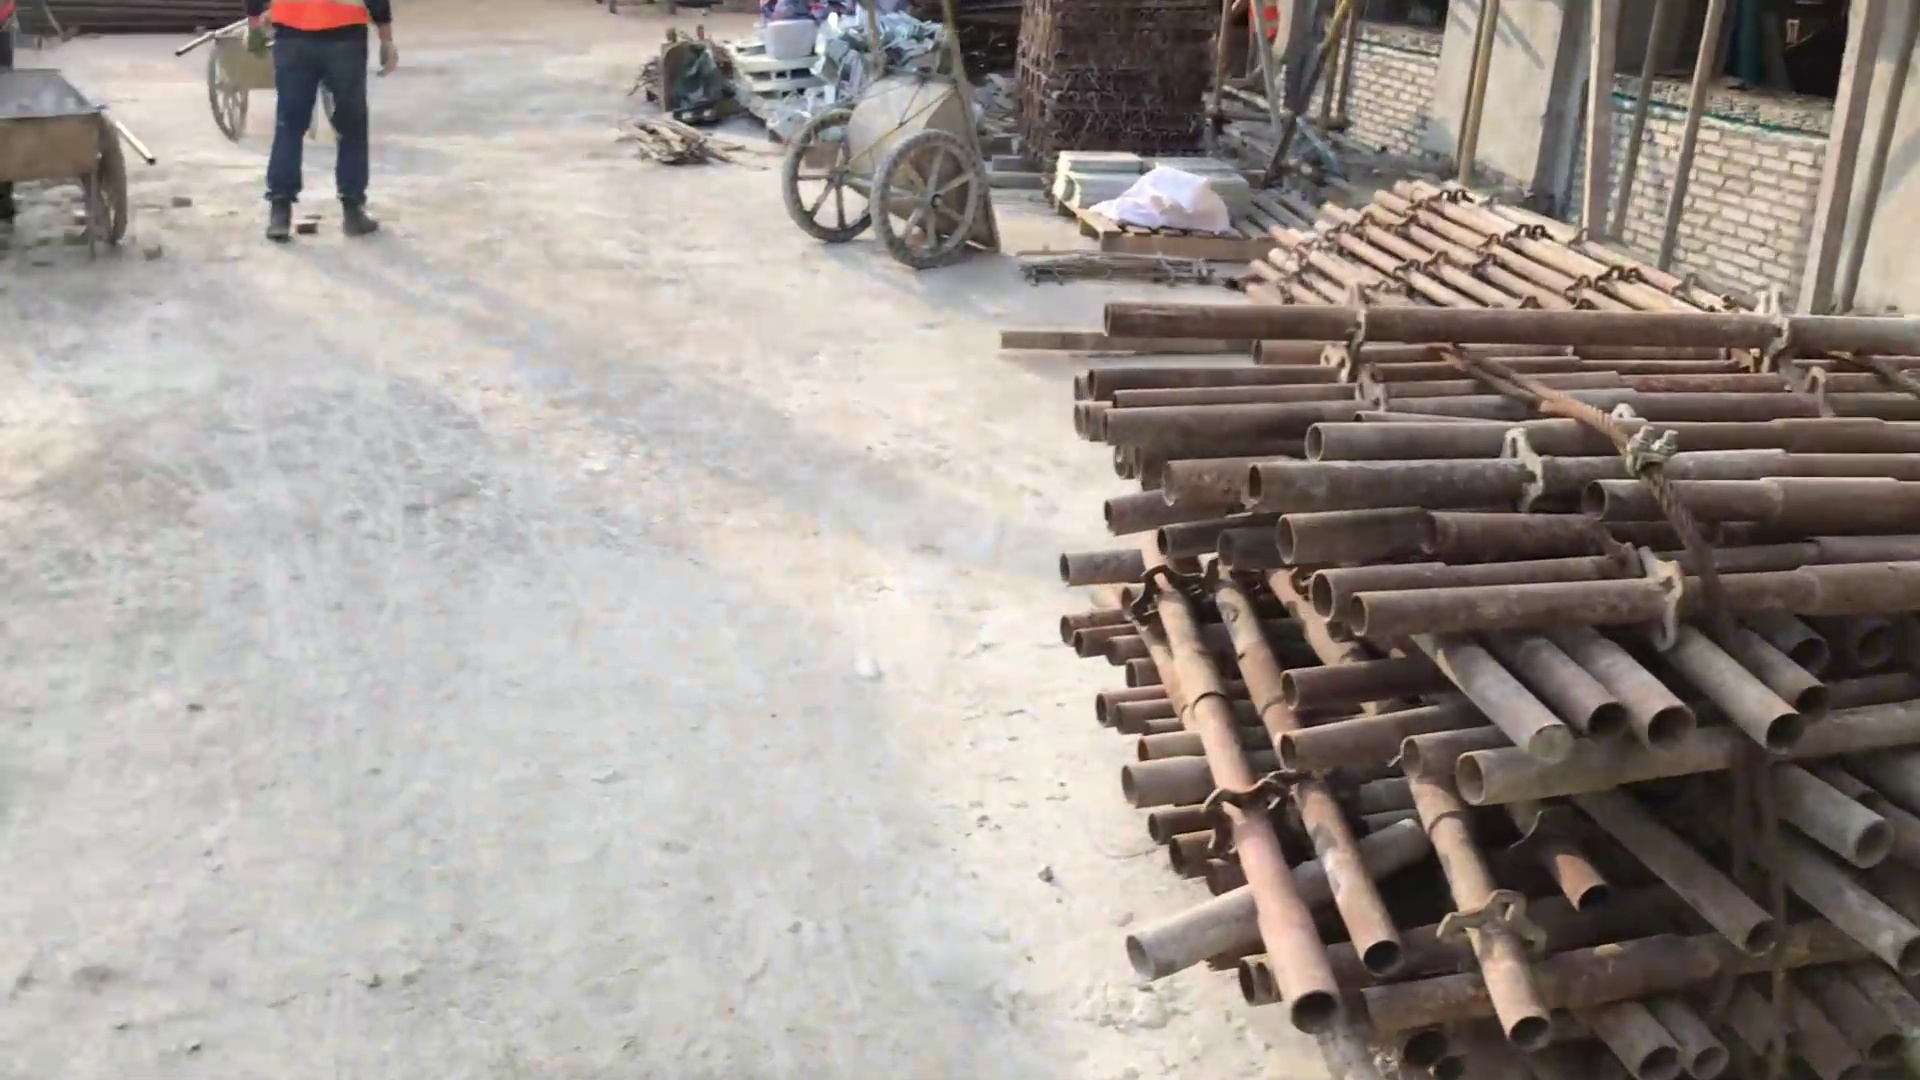handcart: (779, 1, 1005, 271), (1, 58, 162, 259), (174, 13, 278, 144)
person: (243, 1, 398, 244)
scaffold: (1073, 302, 1920, 1080), (1237, 179, 1737, 308), (1005, 1, 1218, 162)
vest: (261, 1, 375, 34)
